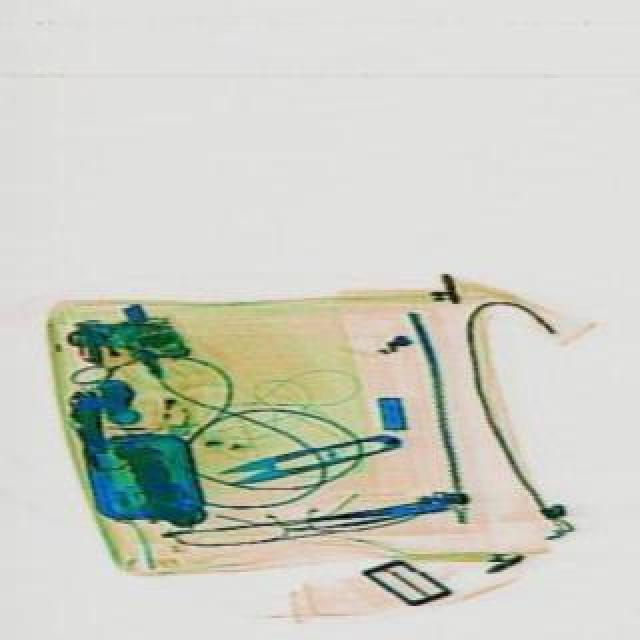pliers: (210, 426, 398, 490)
